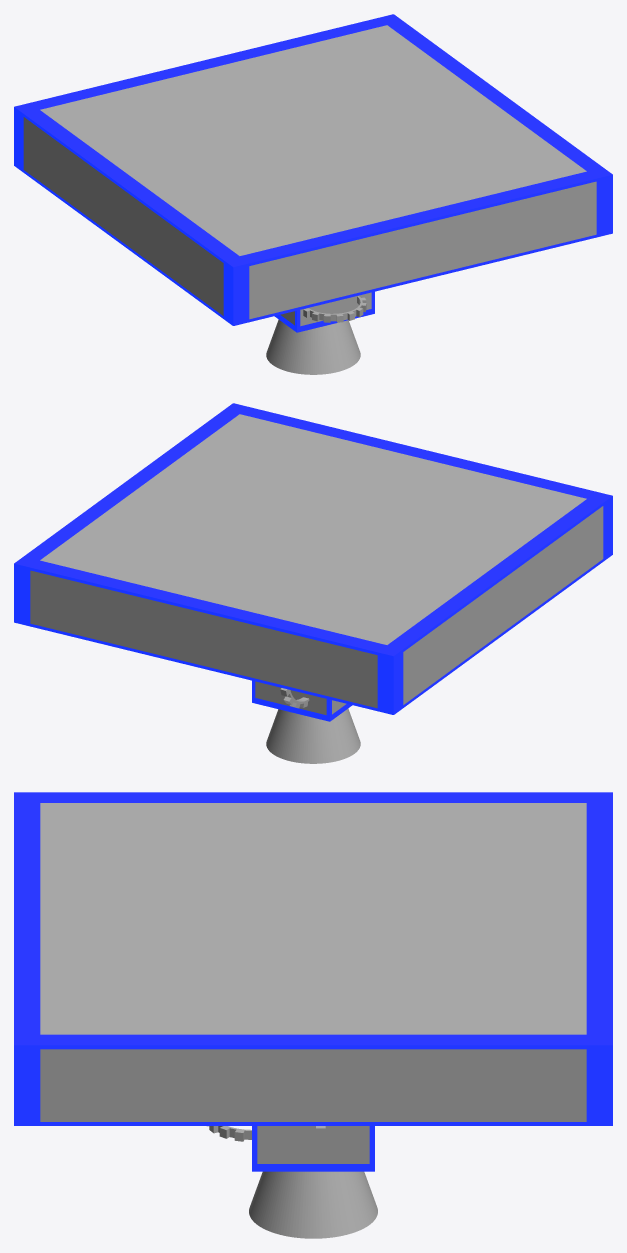
File: Platform.fbx
3 views of the same model, one above another, from view 1: azimuth 30°, elevation 25°; view 2: azimuth 150°, elevation 25°; view 3: azimuth 270°, elevation 25° (orthographic). The views are drawn at different scales.
Parts seen in each view (by area): view 1: platform, shester3; view 2: platform; view 3: platform.
Boxes of the visible parts, box(x1,y1,x2,y2) form: platform: box(14, 14, 612, 374); shester3: box(303, 296, 366, 322); platform: box(14, 403, 612, 763); platform: box(14, 792, 612, 1238).
Size of the model in its own units: 200 by 108 by 200.
